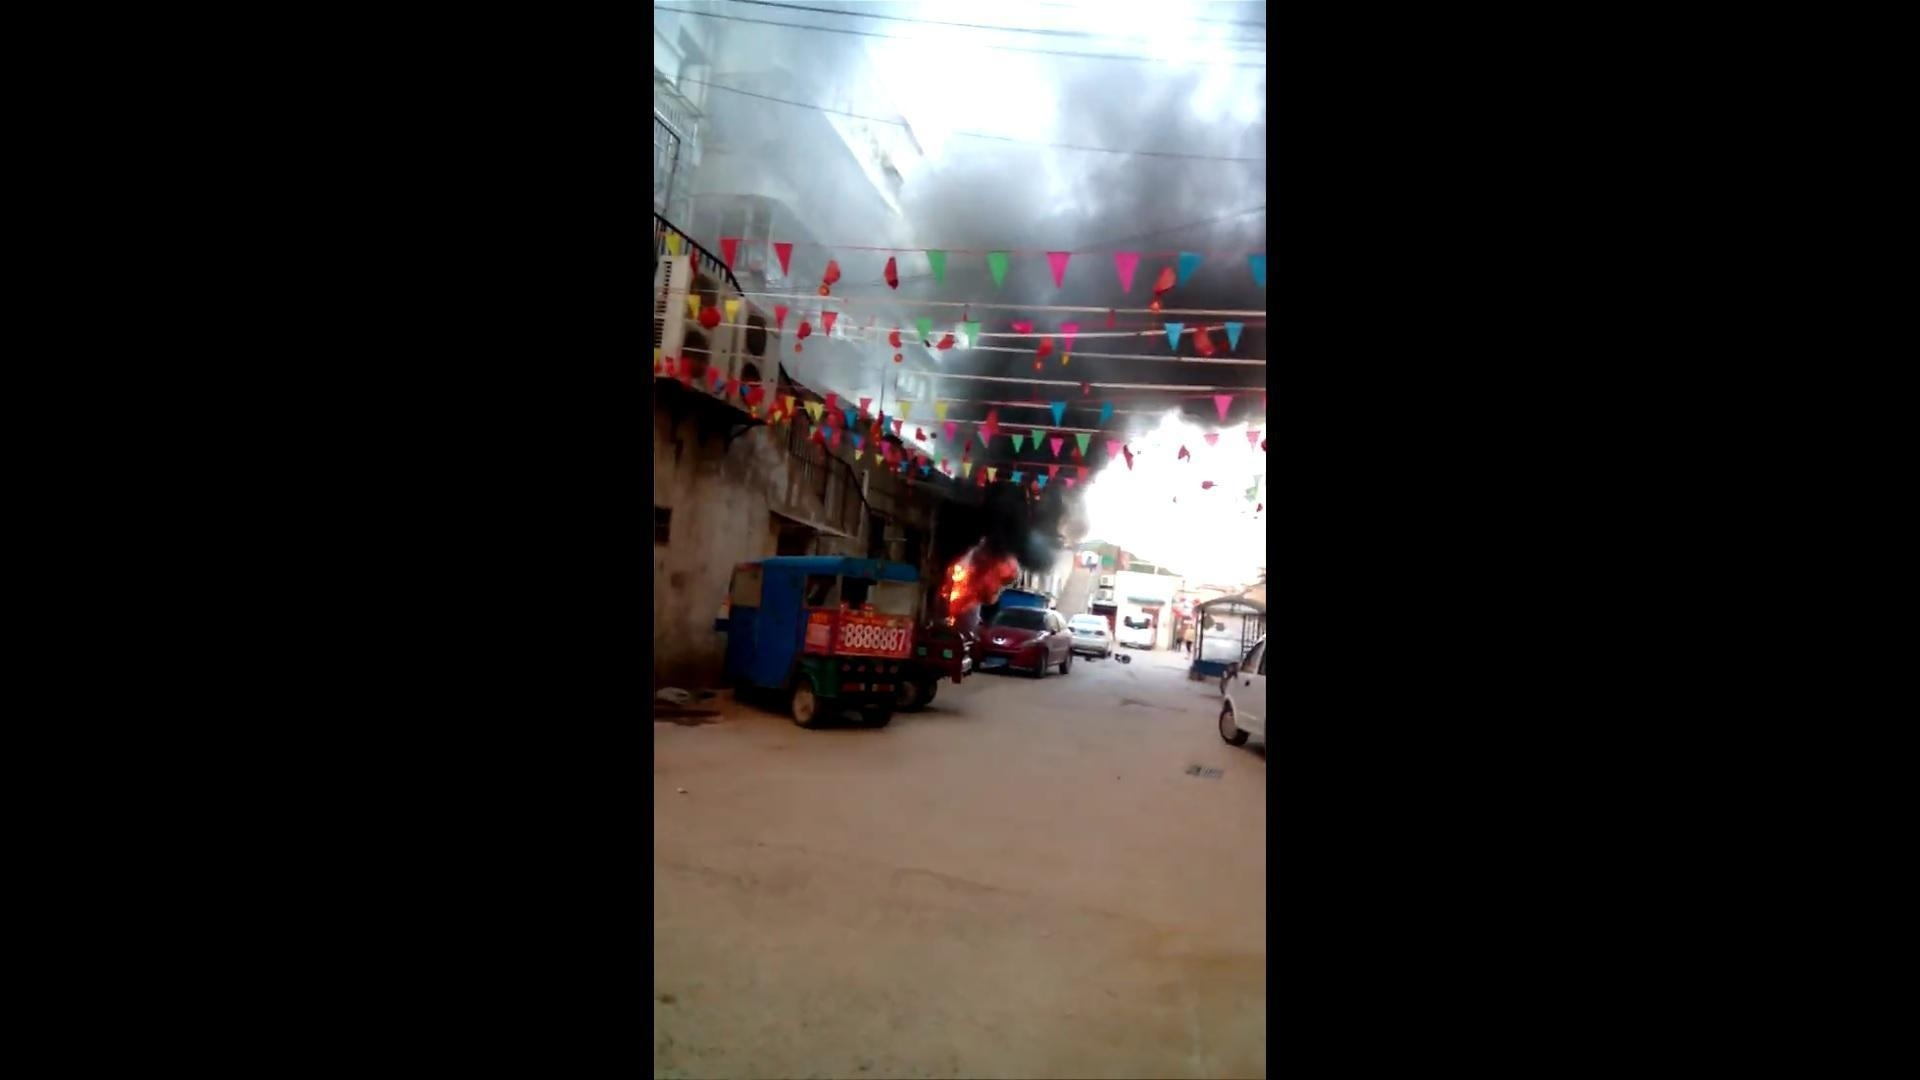fire: (940, 549, 1006, 608)
